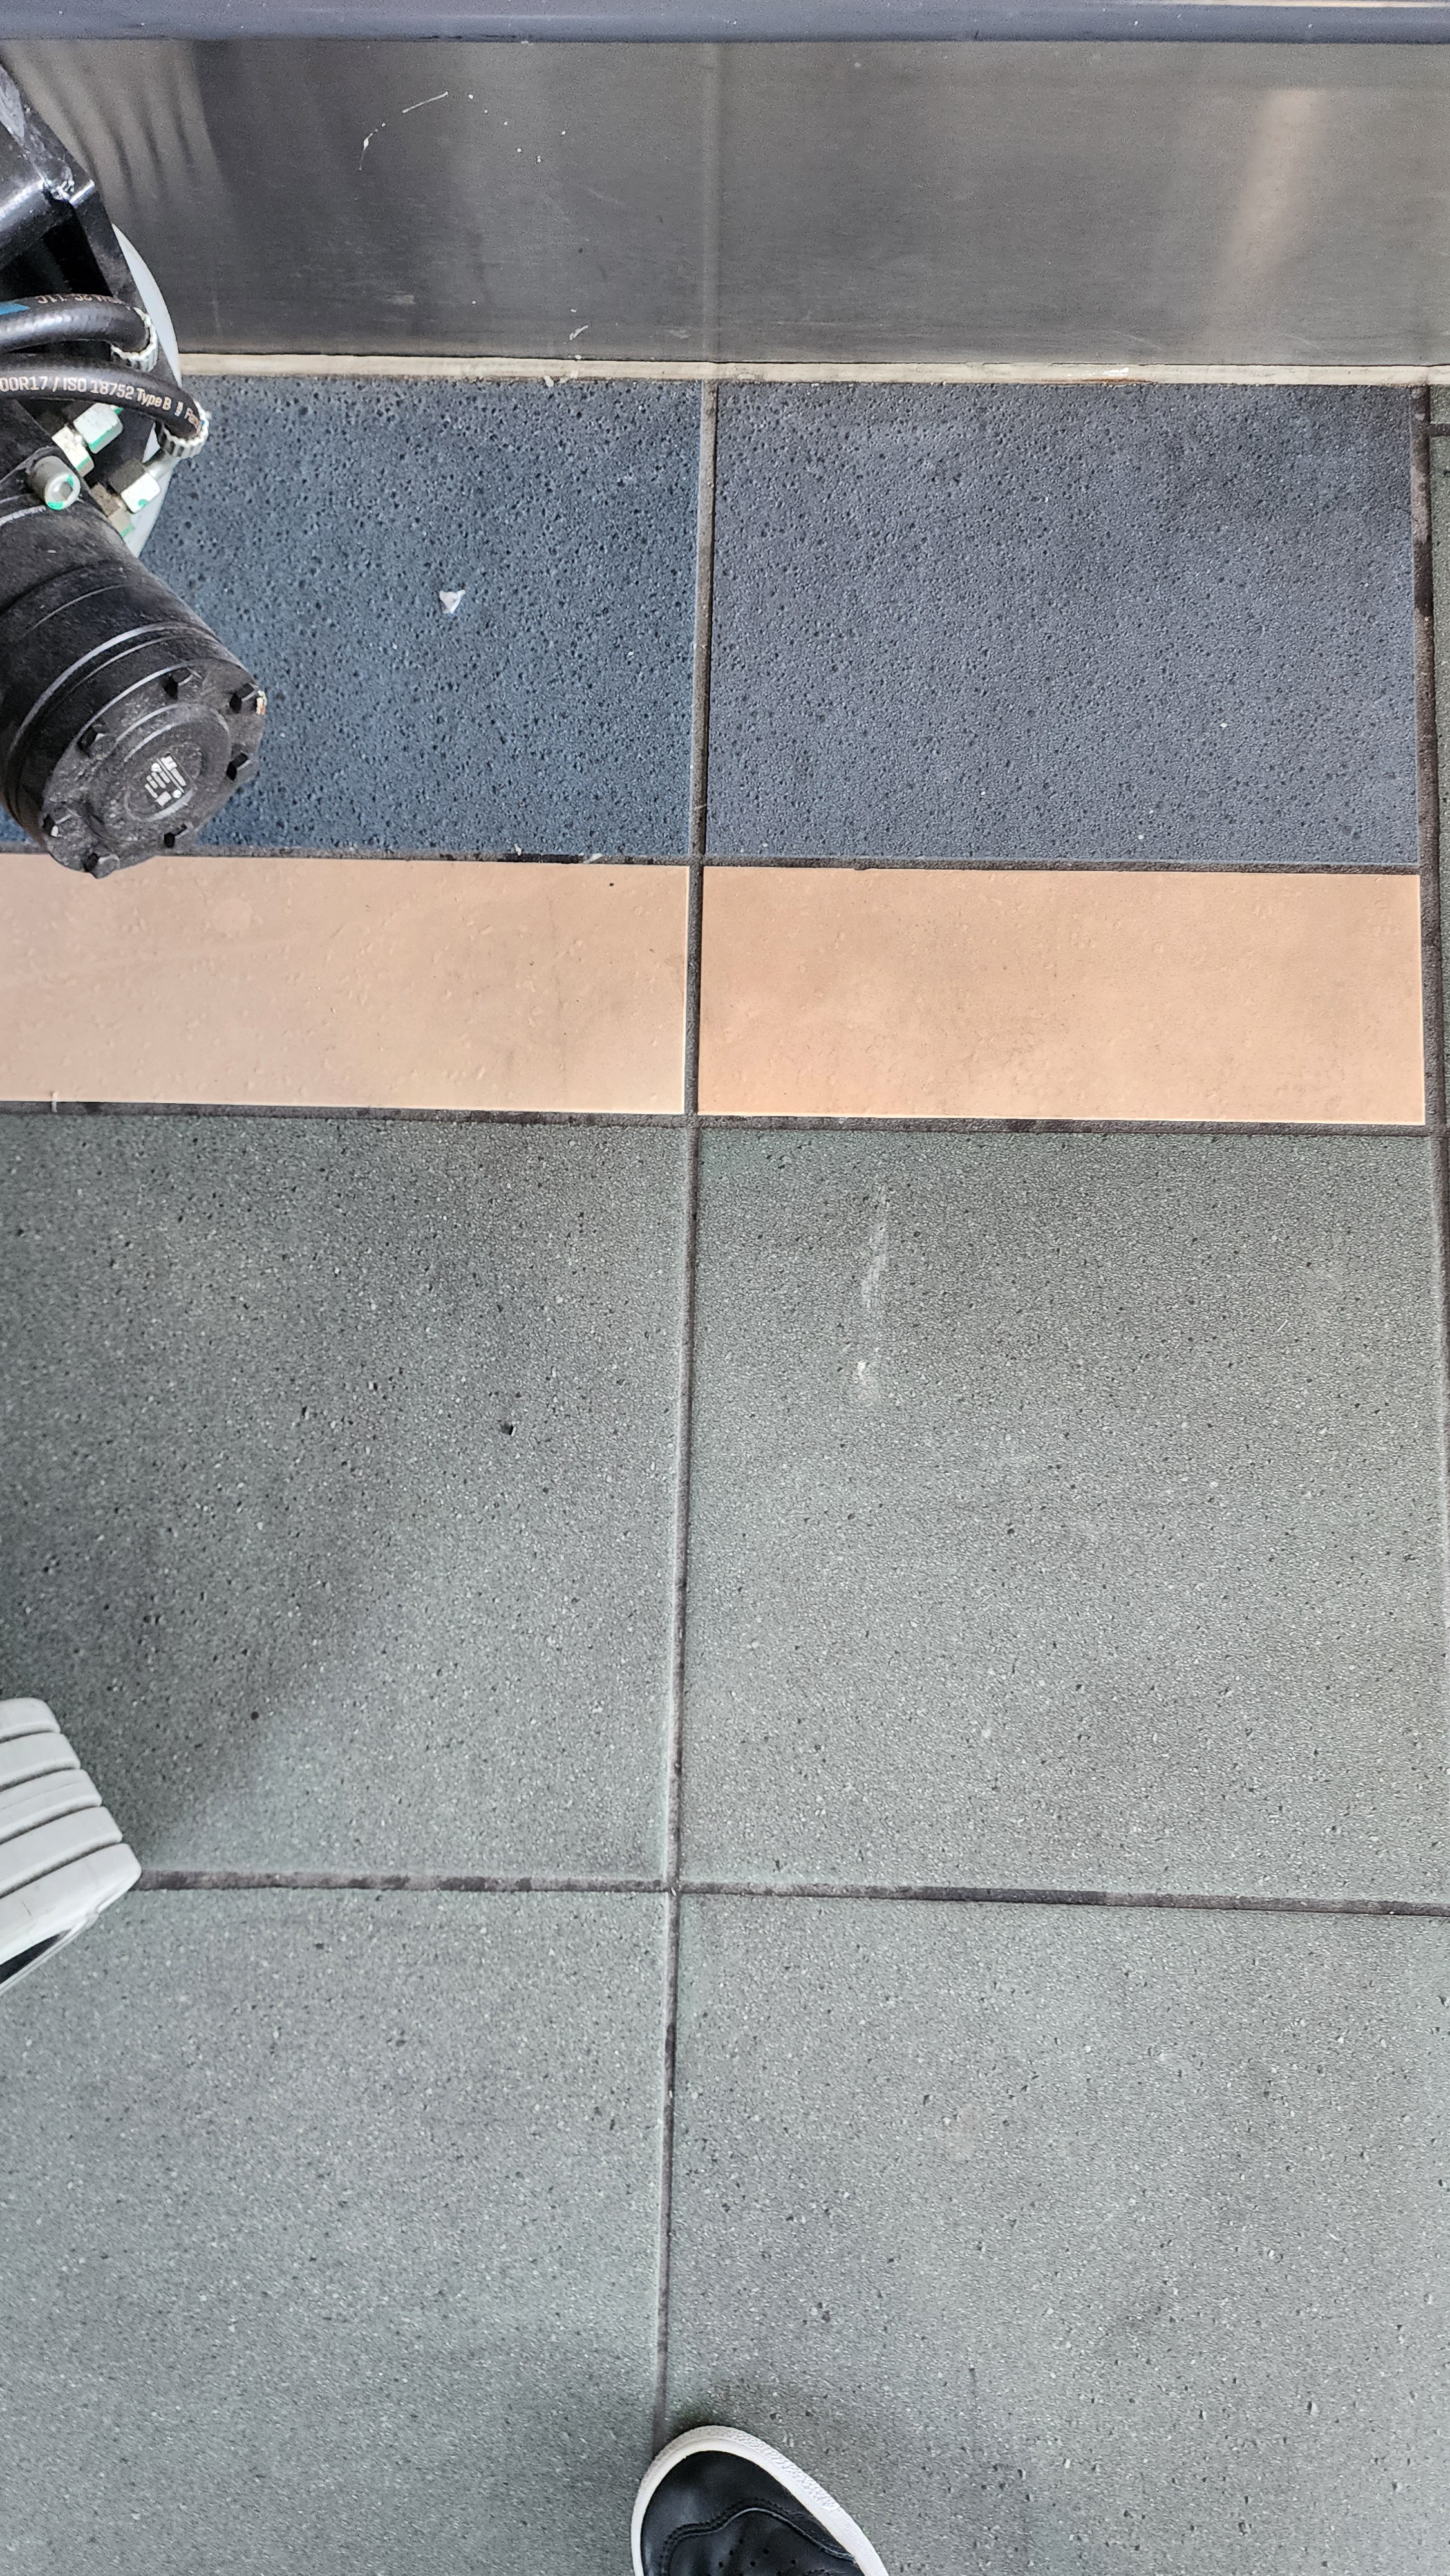Garbage: (421, 568, 488, 632)
